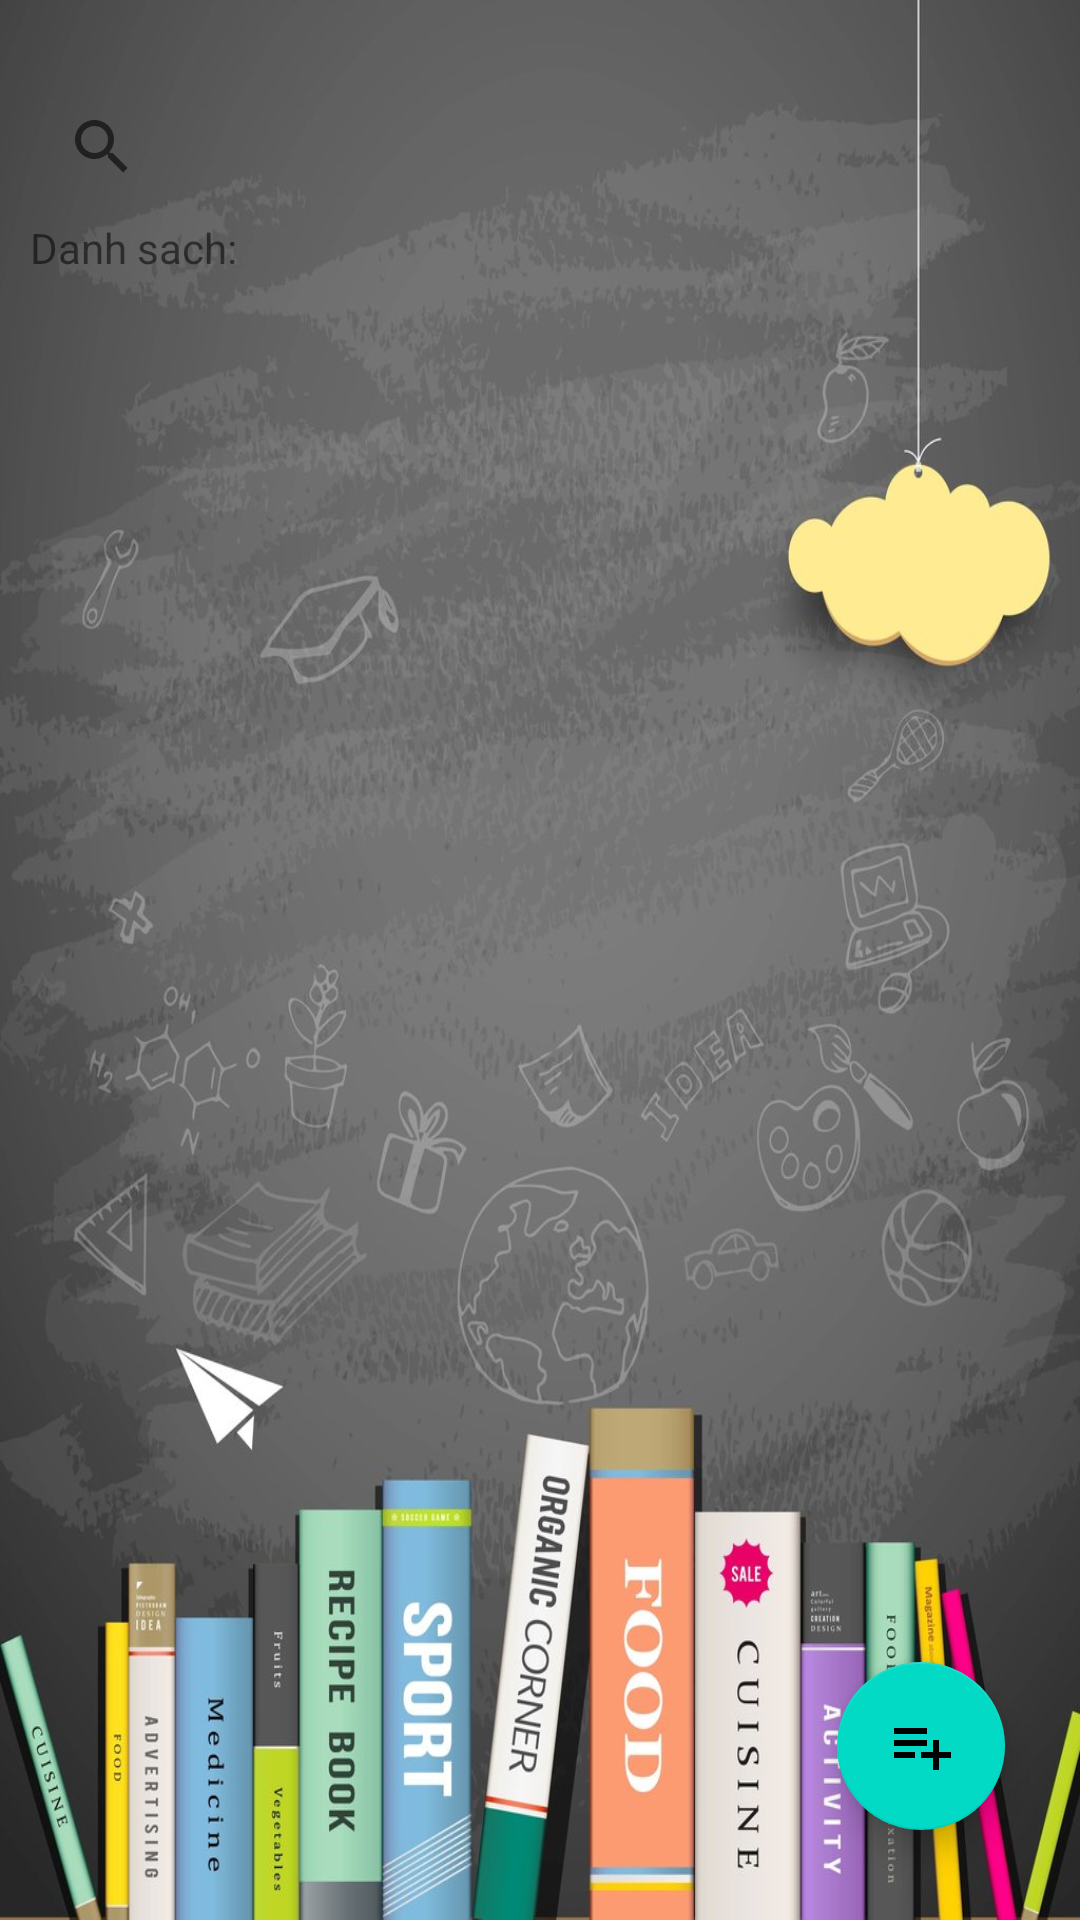

Point at icon controls on the screen. Image size 1080 x 1920, points as point (x, y).
playlist add: point (921, 1746)
